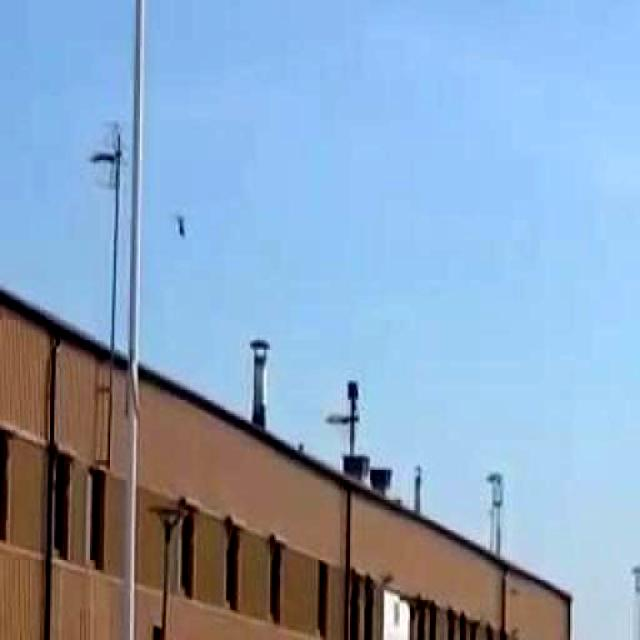drone: (159, 184, 211, 262)
